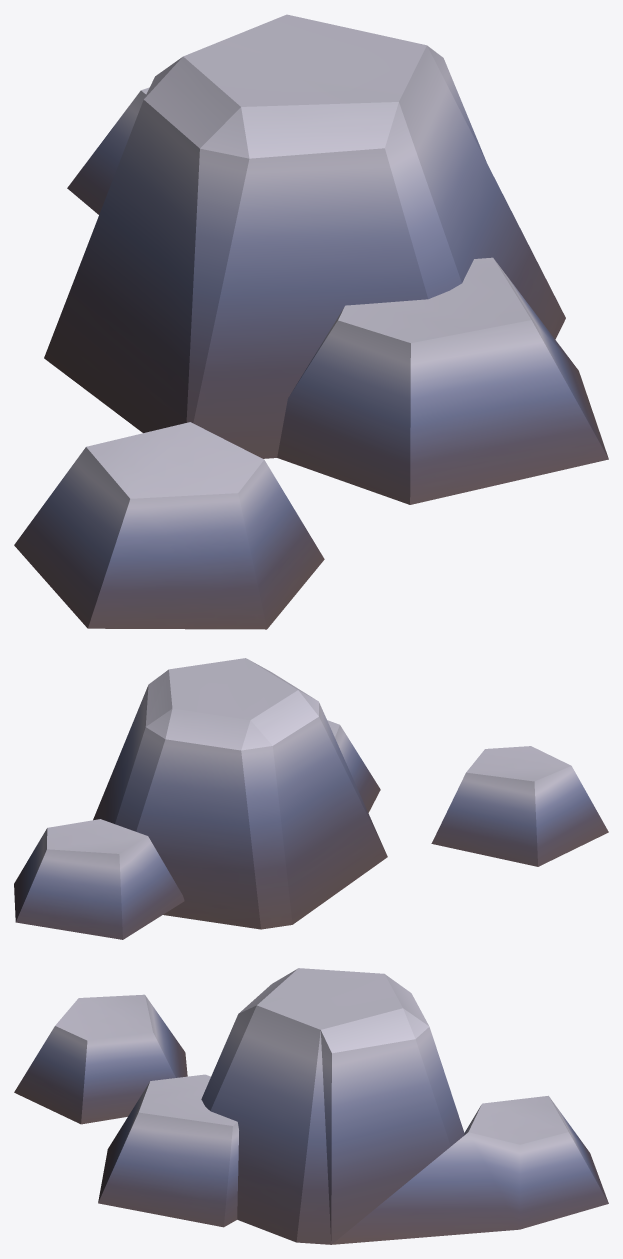
File: block_mountain_2_2.fbx
The picture shows the model from 3 angles, top to bottom: view 1: azimuth 30°, elevation 25°; view 2: azimuth 150°, elevation 25°; view 3: azimuth 270°, elevation 25°; orthographic projection. The views are drawn at different scales.
Parts seen in each view (by area): view 1: block_mountain_2_2; view 2: block_mountain_2_2; view 3: block_mountain_2_2.
Part boxes in pixels (bbox=[...]): block_mountain_2_2: bbox=[14, 14, 608, 629]; block_mountain_2_2: bbox=[14, 658, 608, 939]; block_mountain_2_2: bbox=[14, 968, 608, 1244].
Bounding box in the file's own units: 58.4 × 25.32 × 72.95.
